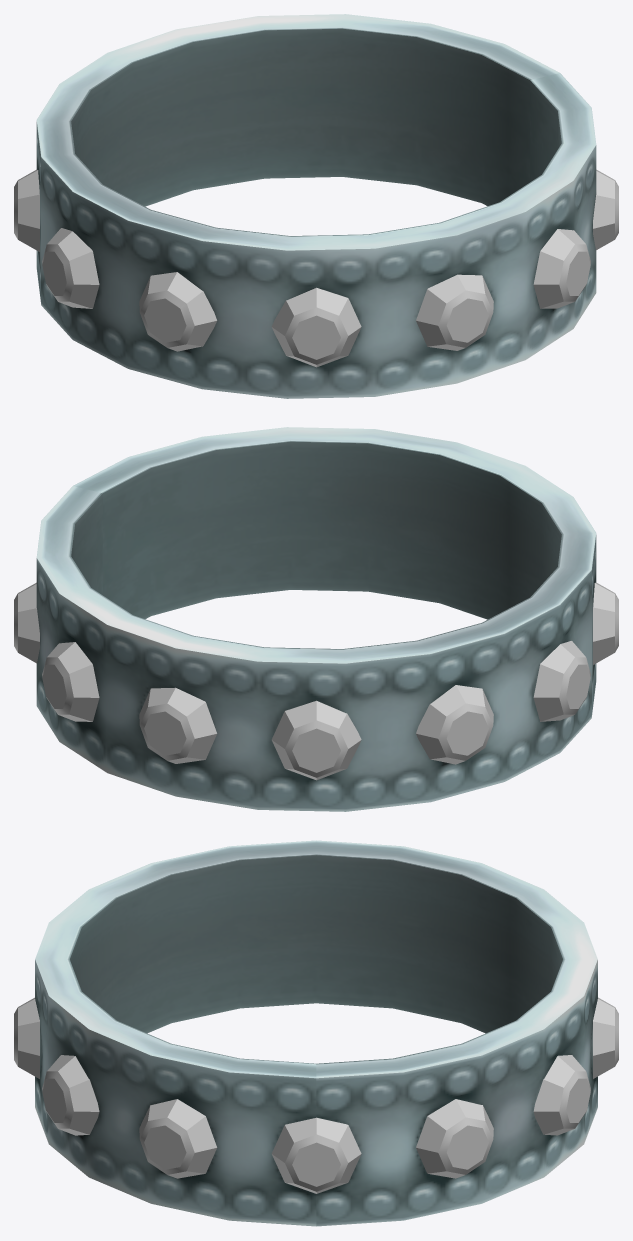
Rendered from ring_silver_08.fbx.
3 views of the same model, one above another, from view 1: azimuth 30°, elevation 25°; view 2: azimuth 150°, elevation 25°; view 3: azimuth 270°, elevation 25° (orthographic).
Visible parts, largest first — view 1: ring_silver_08; view 2: ring_silver_08; view 3: ring_silver_08.
Part boxes in pixels (x1,y1,x2,y2): ring_silver_08: [14, 14, 618, 398]; ring_silver_08: [14, 427, 618, 811]; ring_silver_08: [14, 840, 618, 1226].
Size of the model in its own units: 2.2 by 0.594 by 2.2.
